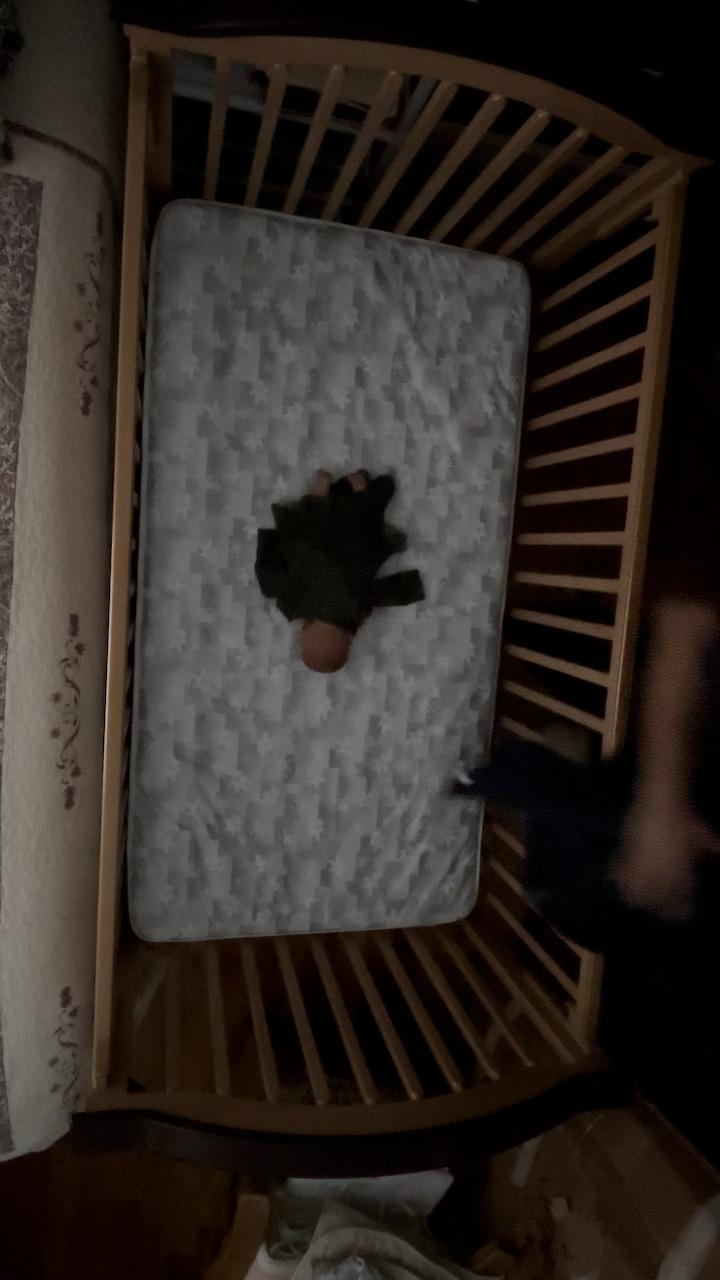baby: (266, 464, 400, 674)
